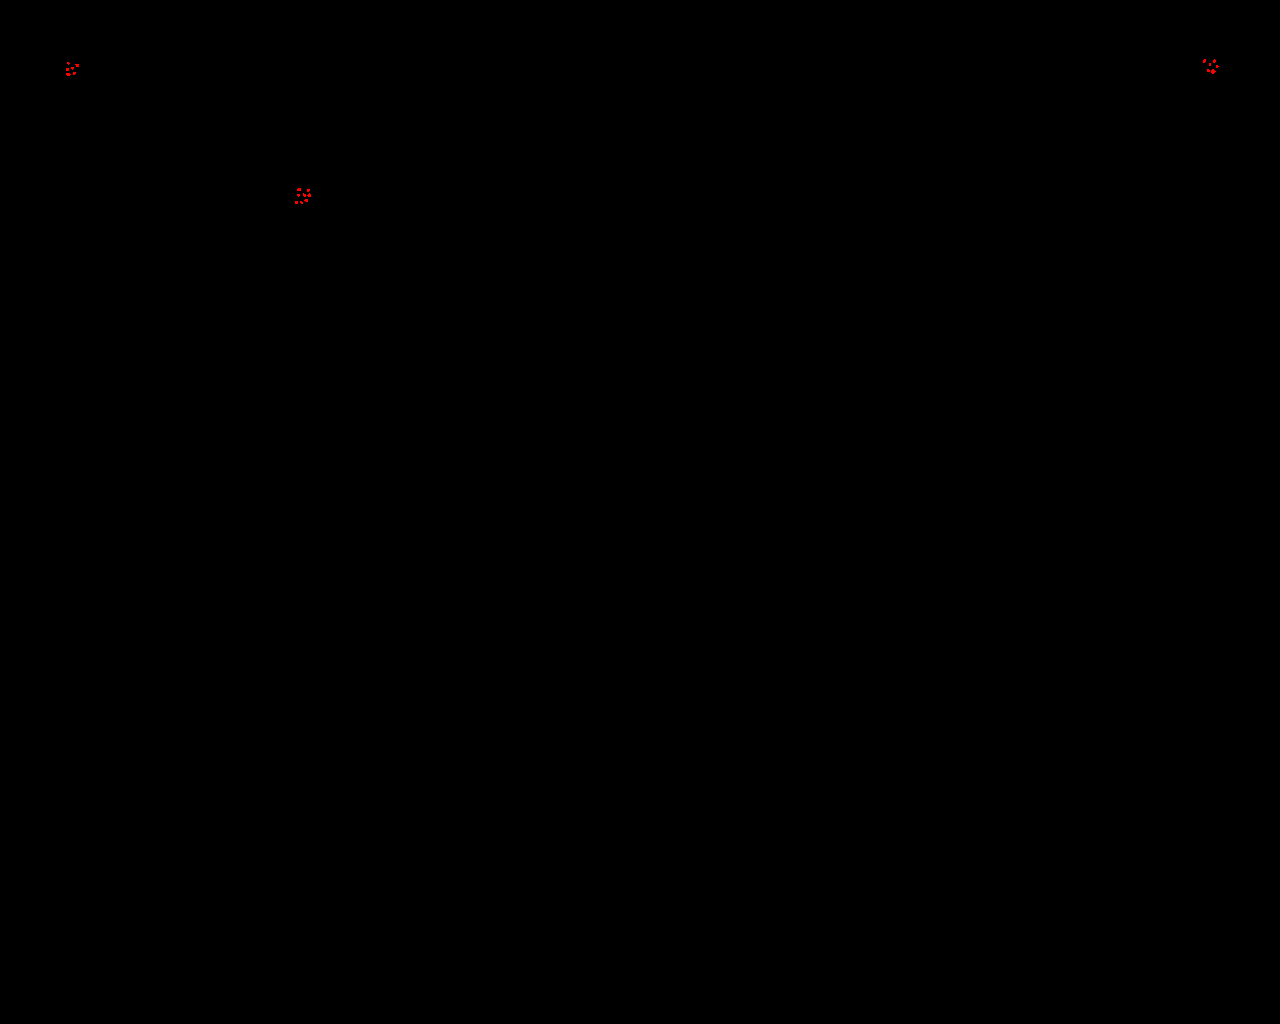Target: (1211, 69, 1216, 74), (307, 193, 311, 197), (66, 73, 71, 76), (1203, 59, 1206, 63), (1213, 59, 1216, 63), (75, 64, 79, 67), (297, 188, 301, 191), (303, 193, 306, 197), (304, 199, 308, 202), (67, 62, 70, 65), (1216, 65, 1219, 68), (71, 67, 74, 70), (66, 68, 69, 71), (1207, 69, 1210, 72), (73, 72, 76, 75), (307, 189, 310, 192), (297, 194, 300, 197), (295, 201, 298, 204), (300, 201, 303, 204), (1209, 63, 1211, 66)
